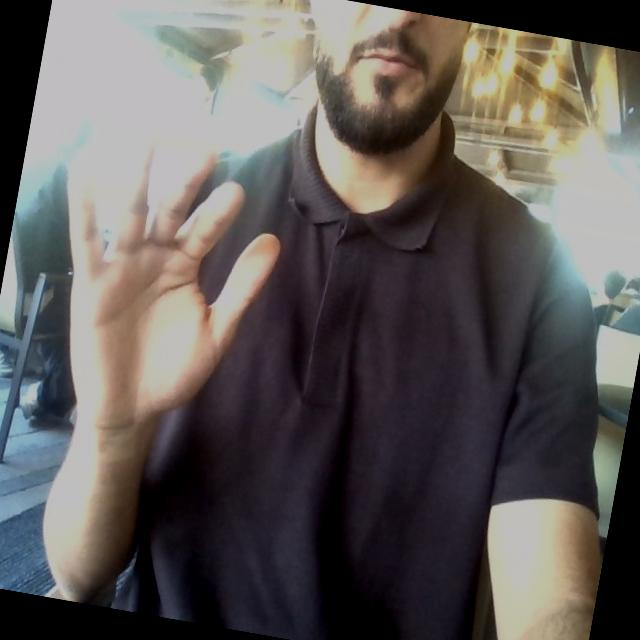Hand: (68, 148, 278, 430)
